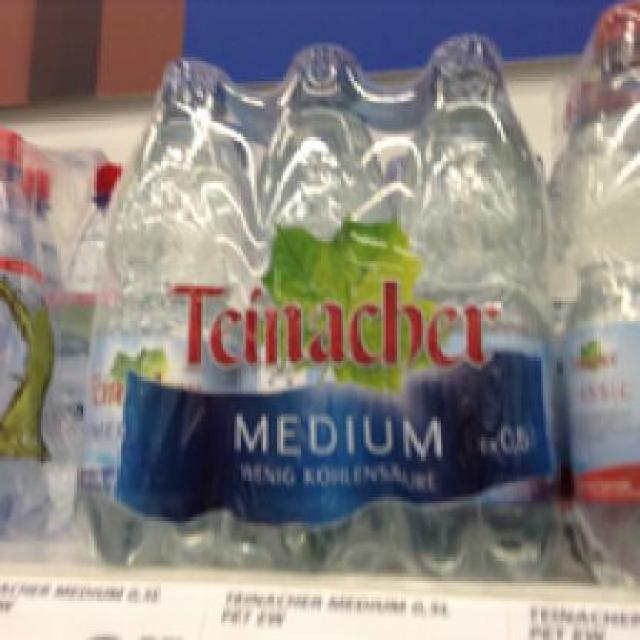Water: (386, 28, 563, 564), (80, 54, 243, 557), (240, 40, 389, 566)
